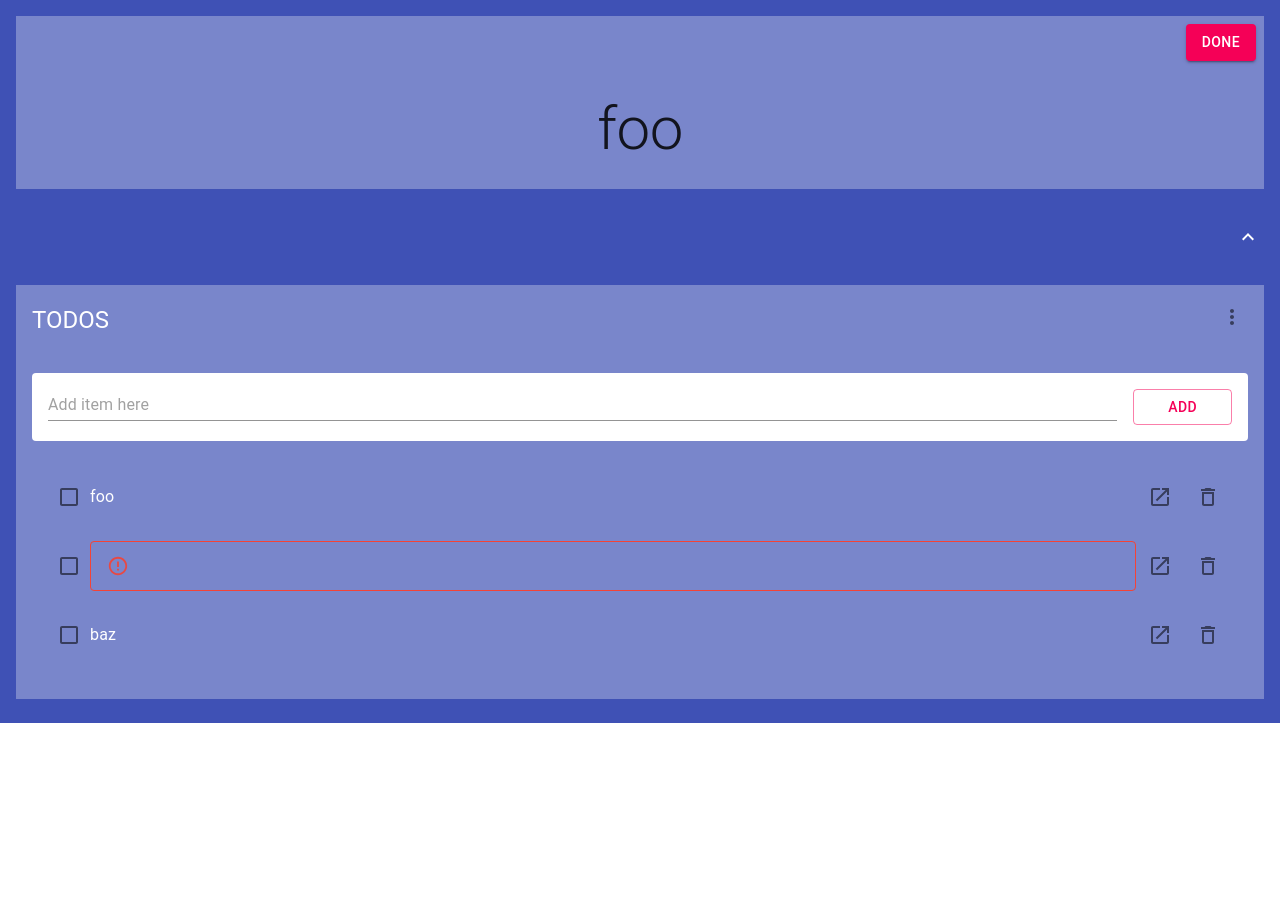
Test: TodoList › Correct error
This screenshot has width=1280, height=900.
Click the message at (613, 566), box [90, 541, 1136, 591]
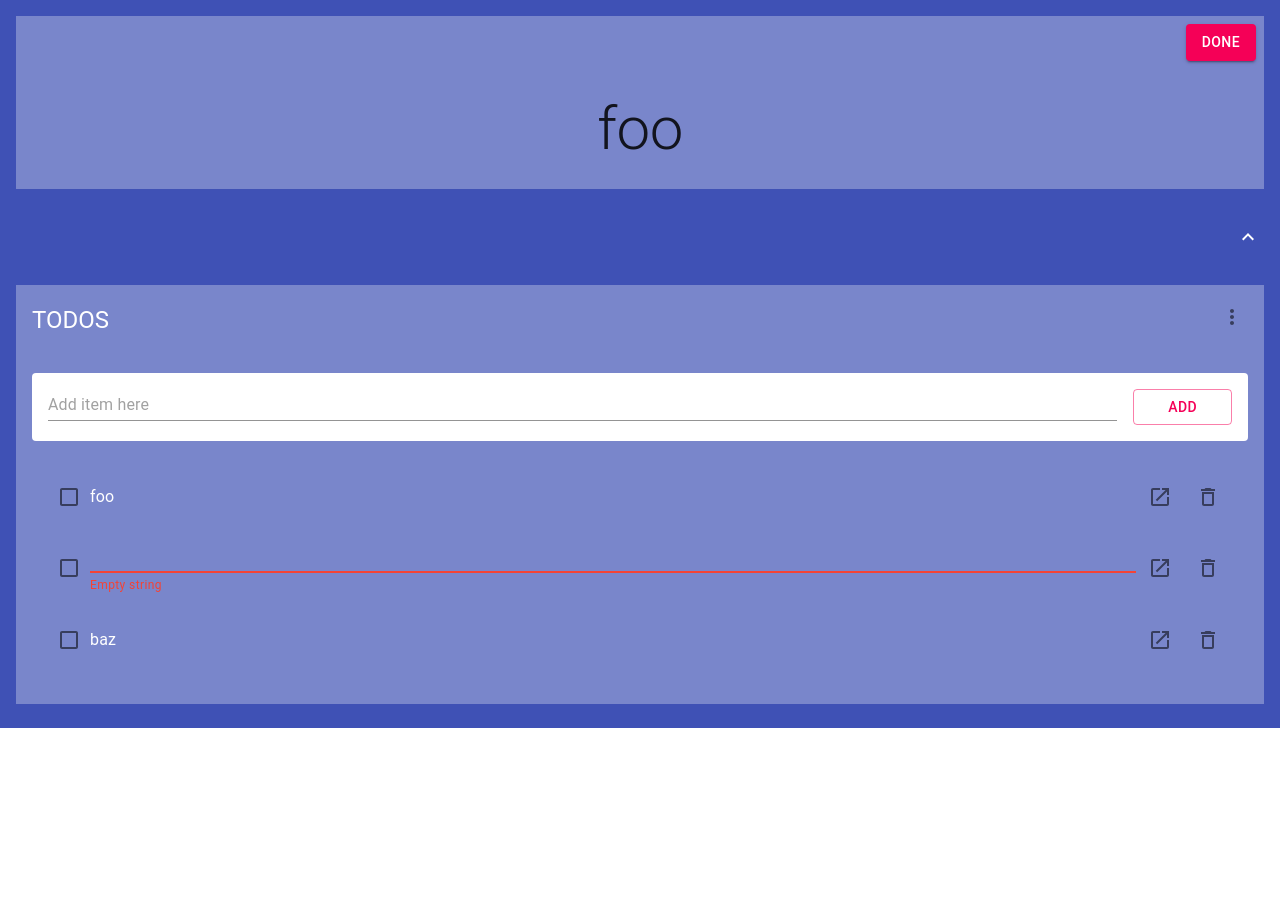
Now the message is gone
Type "bar" into the 2nd field at (613, 557), box [90, 541, 1136, 573]
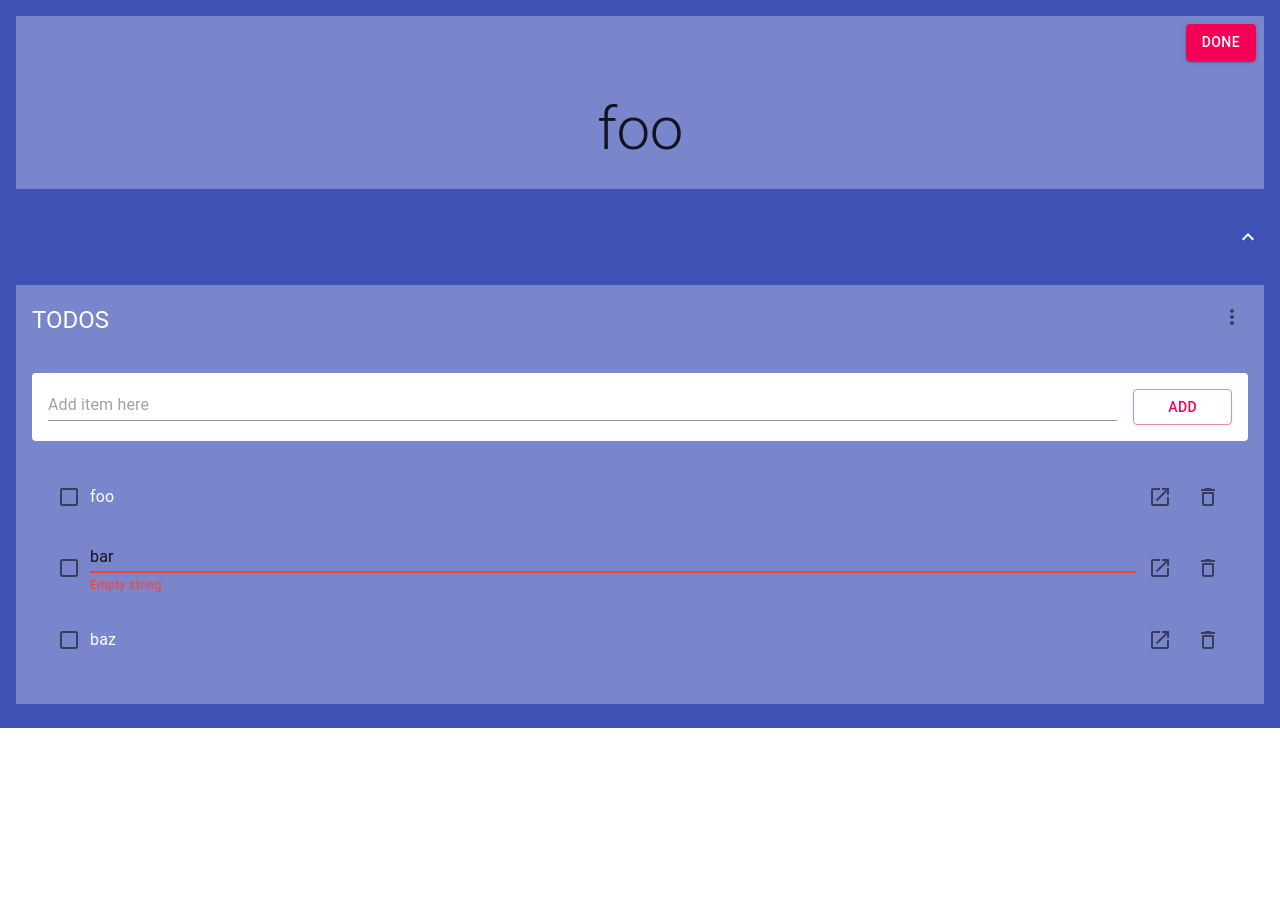
Press Enter in the 2nd field, box [90, 541, 1136, 573]
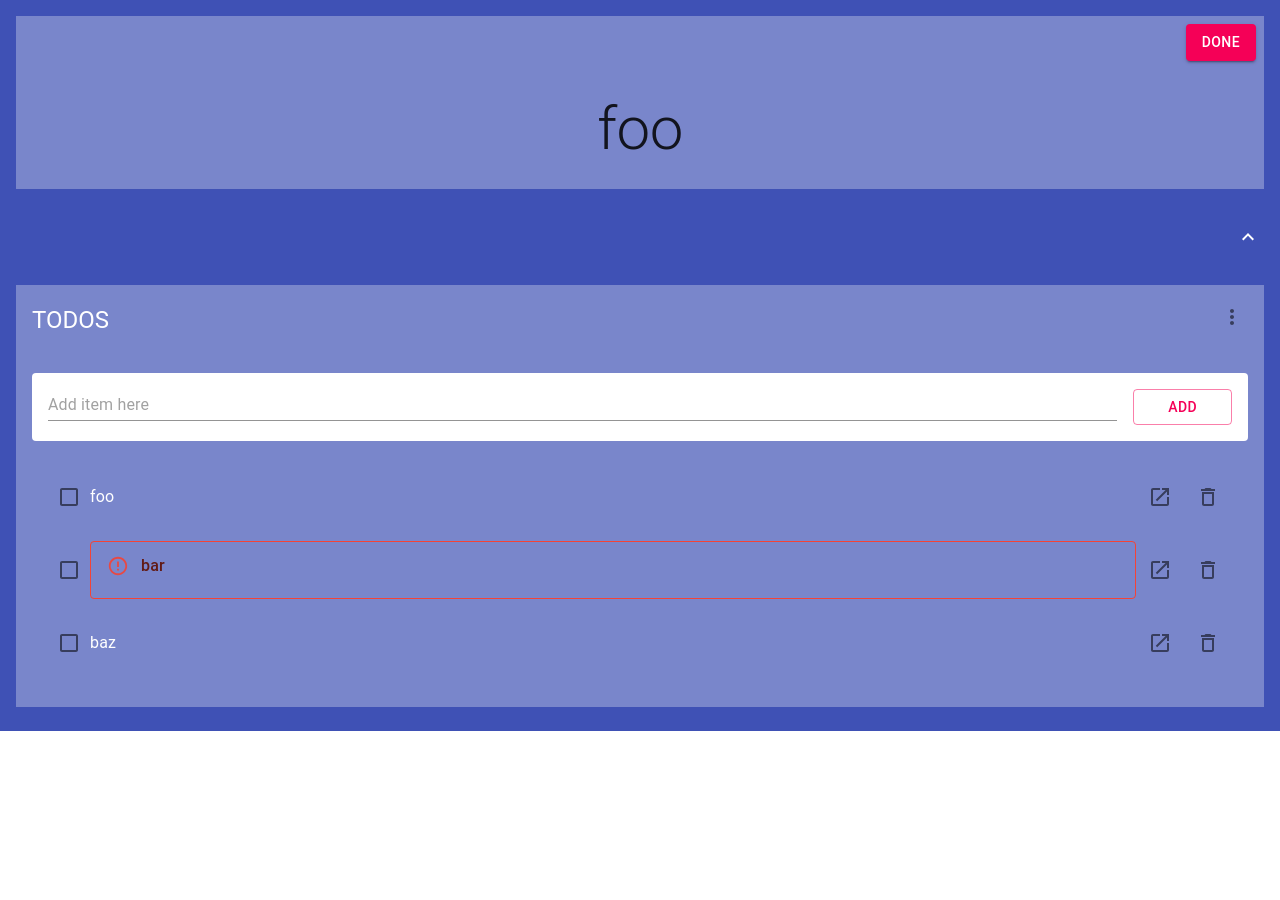
Now the list items read "foo", "bar", "baz", in this order, box [32, 465, 1248, 529]; [32, 529, 1248, 611]; [32, 611, 1248, 675]
